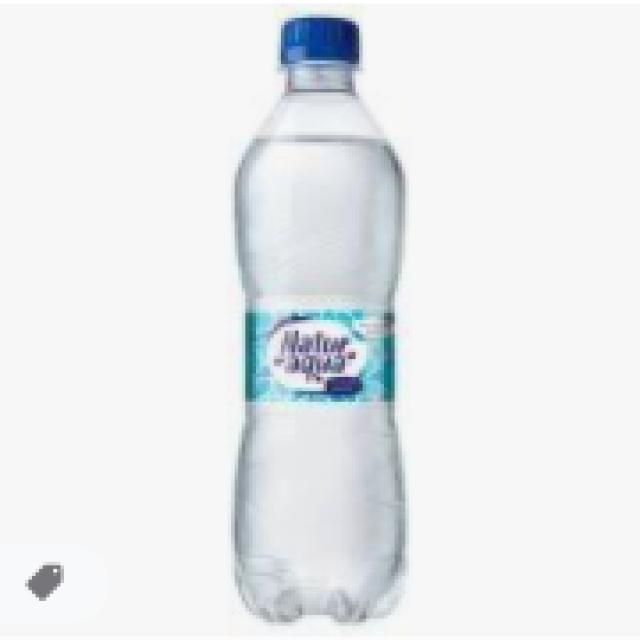plasticbottle: (226, 3, 410, 640)
